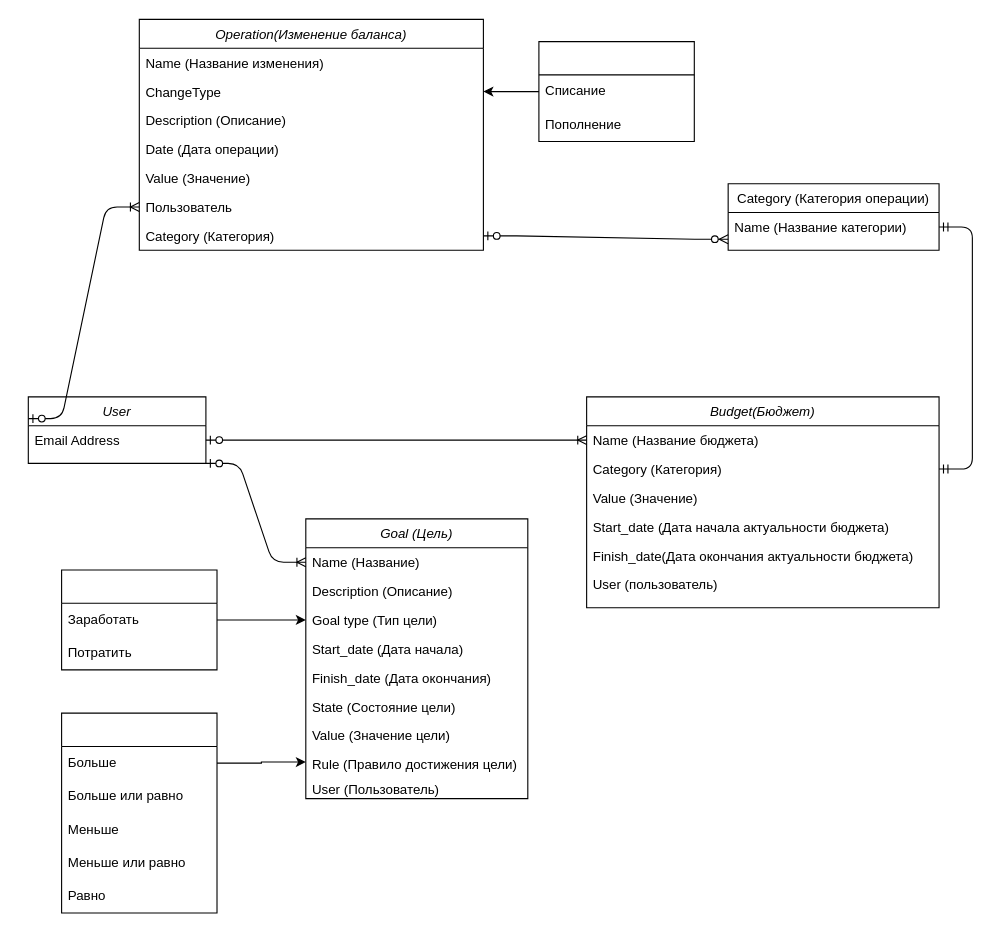
This 1002x932 diagram has some shape labels left out. Each missing label, with the box of its shape:
ChangeType (Тип изменения): (538, 41, 694, 142)
GoalRules(Правила достижения цели): (60, 712, 217, 913)
GoalTypes (Типы цели): (60, 569, 217, 670)
